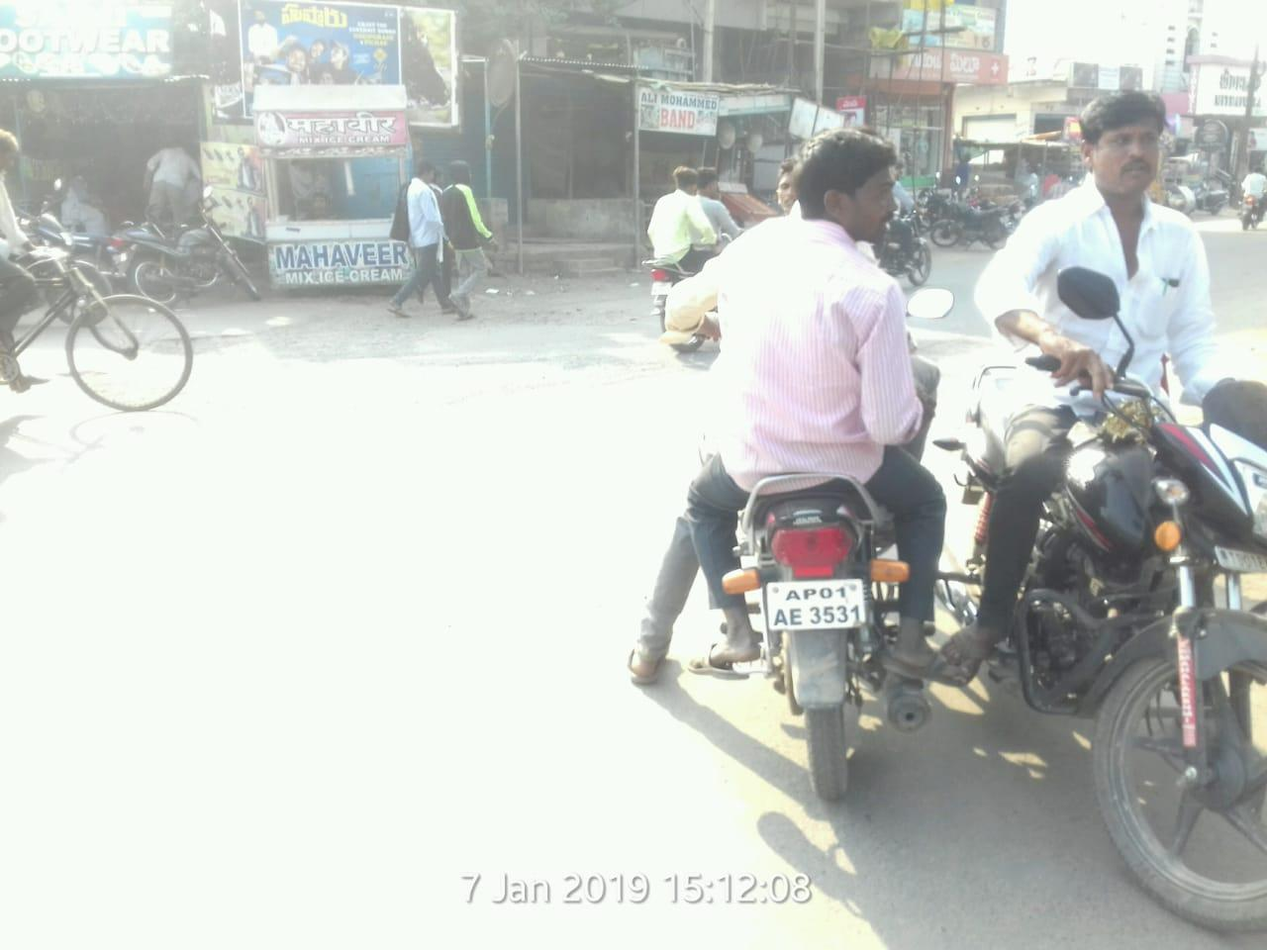plate: (759, 580, 870, 636), (650, 277, 675, 296)
